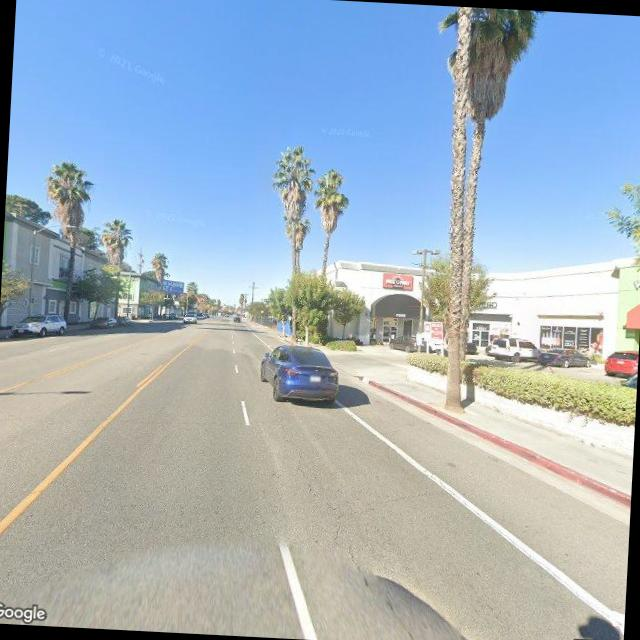pothole: (288, 457, 362, 562)
